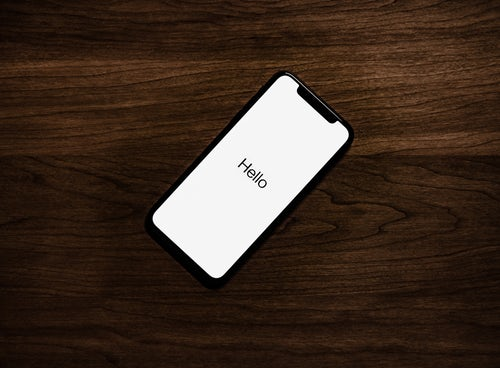phone: (142, 71, 355, 283)
